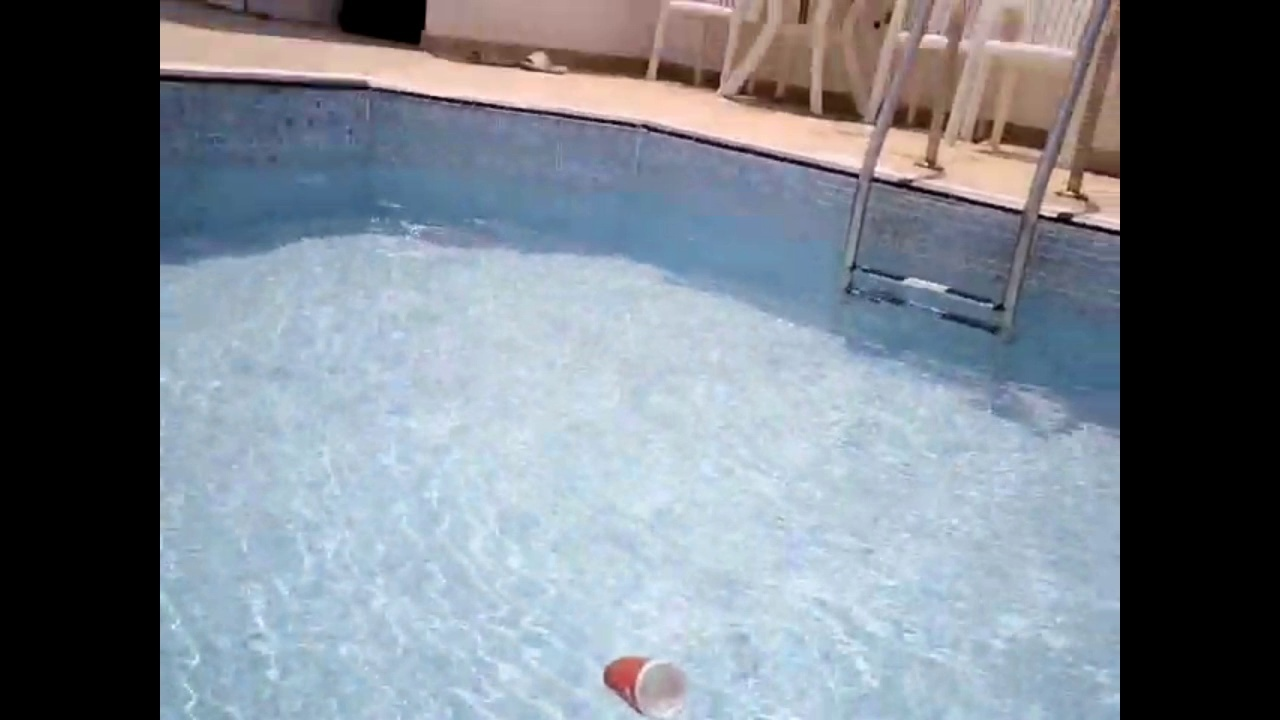debris: (594, 630, 705, 720)
